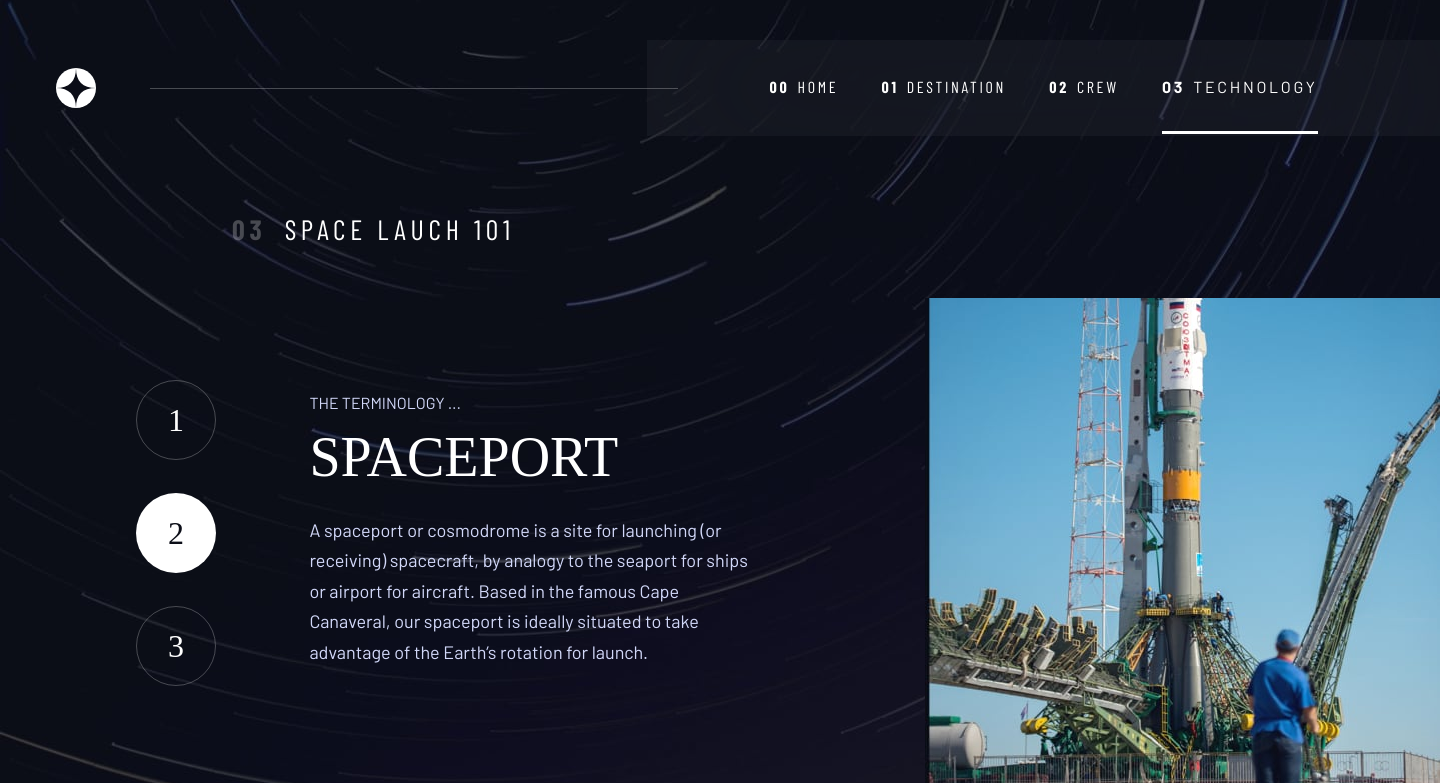
it: Back to Home page › Logo button can be clicked and return to home page
Click the picture with class "header__content__logo" at (76, 88), box left=56, top=68, right=96, bottom=108
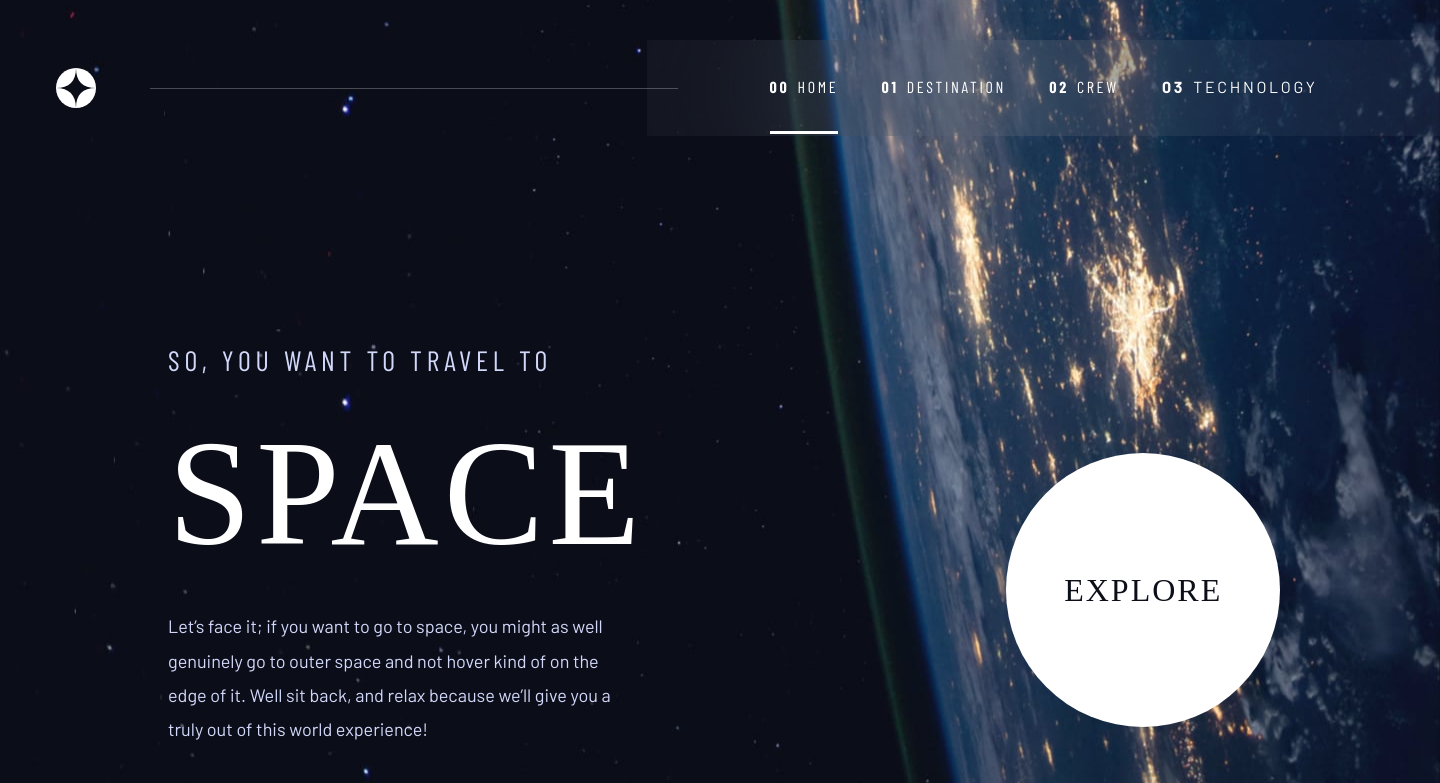
Check: the text "Space" is shown, box left=168, top=381, right=645, bottom=606
Check: the heading "So, you want to travel to Space" is shown, box left=168, top=320, right=645, bottom=606
